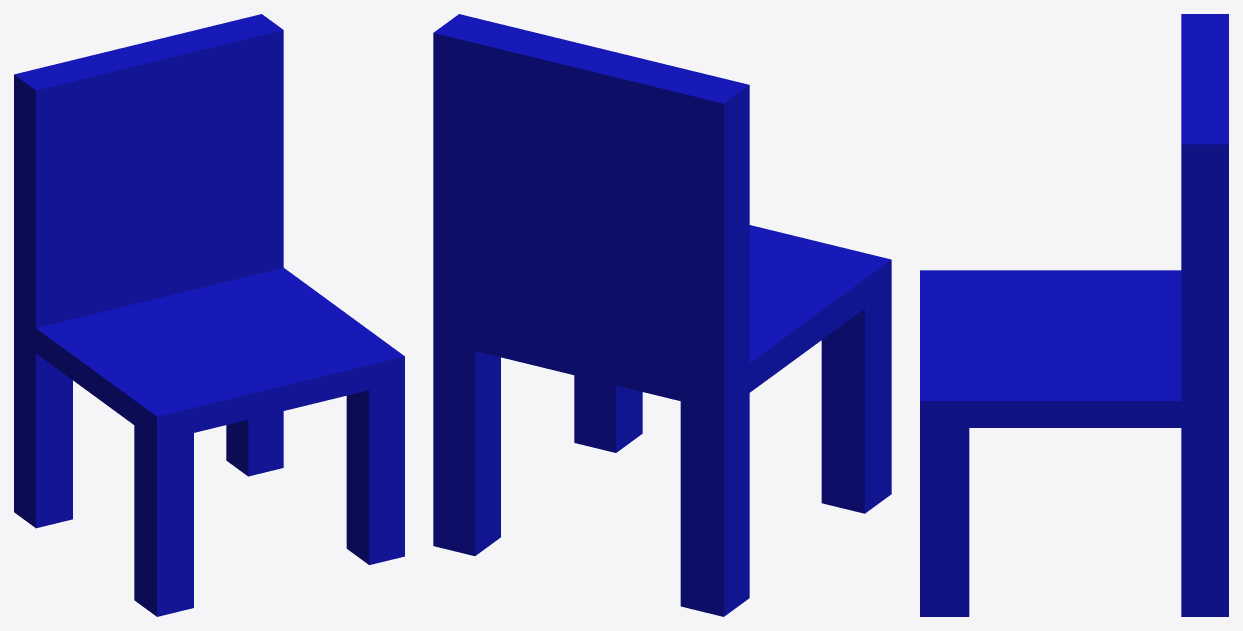
The model's file is Chair_Room.obj.
3 views of the same model, side by side, from view 1: azimuth 30°, elevation 25°; view 2: azimuth 150°, elevation 25°; view 3: azimuth 270°, elevation 25° (orthographic). The views are drawn at different scales.
Visible parts, largest first — view 1: Plane.003; view 2: Plane.003; view 3: Plane.003.
Part boxes in pixels (left/top/right/bottom): Plane.003: left=14, top=14, right=404, bottom=616; Plane.003: left=433, top=14, right=891, bottom=616; Plane.003: left=920, top=14, right=1228, bottom=616.
Bounding box in the file's own units: 1.33 × 2.25 × 1.33.
